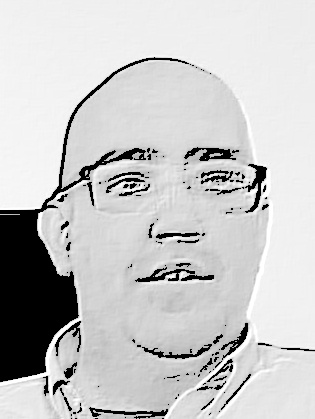nose_M_C: (147, 184, 207, 256)
